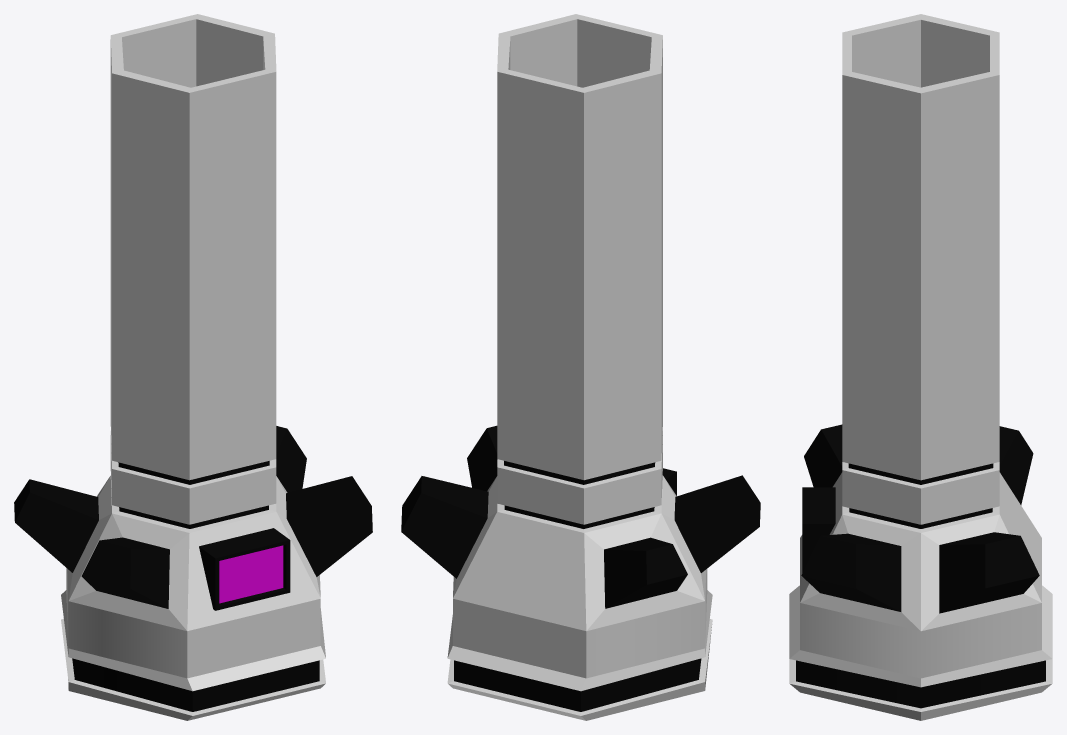
File: Blender_MM_SwapMechanism.fbx
The picture shows the model from 3 angles, left to right: view 1: azimuth 30°, elevation 25°; view 2: azimuth 150°, elevation 25°; view 3: azimuth 270°, elevation 25°; orthographic projection.
Parts seen in each view (by area): view 1: mechanism; view 2: mechanism; view 3: mechanism.
Boxes of the visible parts, box(x1,y1,x2,y2) form: mechanism: box(14, 14, 372, 720); mechanism: box(401, 14, 760, 720); mechanism: box(789, 14, 1052, 720).
Bounding box in the file's own units: 630 × 1254 × 493.
